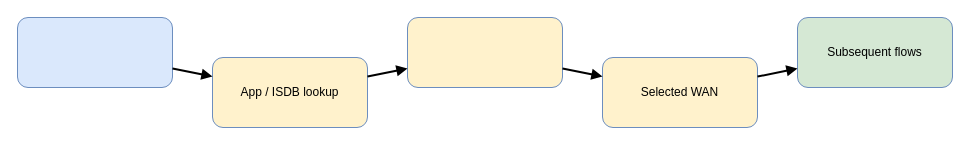
The diagram is 970 pixels wide and 145 high, and some of its shapes have lost their labels. The box of each missing label's shape, as (x1, y1, x2, y2) in pixels:
First flow: (16, 16, 172, 88)
Top-down rules: (406, 16, 562, 88)
